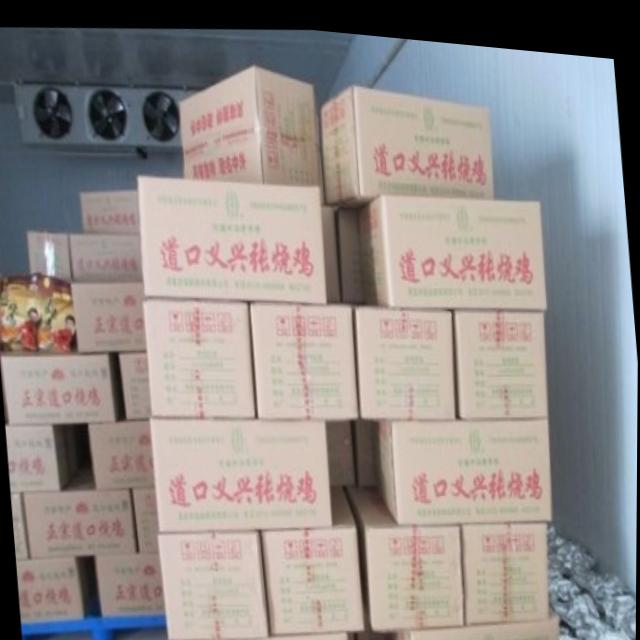box: (137, 173, 326, 296), (358, 186, 547, 300), (320, 77, 493, 200), (150, 414, 334, 528), (376, 409, 554, 517), (346, 479, 465, 624), (177, 59, 322, 175), (263, 479, 365, 631), (143, 294, 256, 414), (248, 295, 359, 413), (158, 525, 270, 637), (356, 297, 457, 411), (454, 301, 549, 409), (461, 511, 550, 613), (1, 349, 116, 424), (22, 486, 137, 558), (392, 594, 561, 640), (70, 279, 146, 351), (5, 424, 81, 491), (16, 557, 85, 625), (88, 416, 154, 487), (98, 551, 165, 615), (68, 231, 143, 279), (80, 187, 140, 232), (177, 626, 349, 640), (119, 347, 150, 418), (28, 231, 69, 279), (132, 484, 159, 550)
